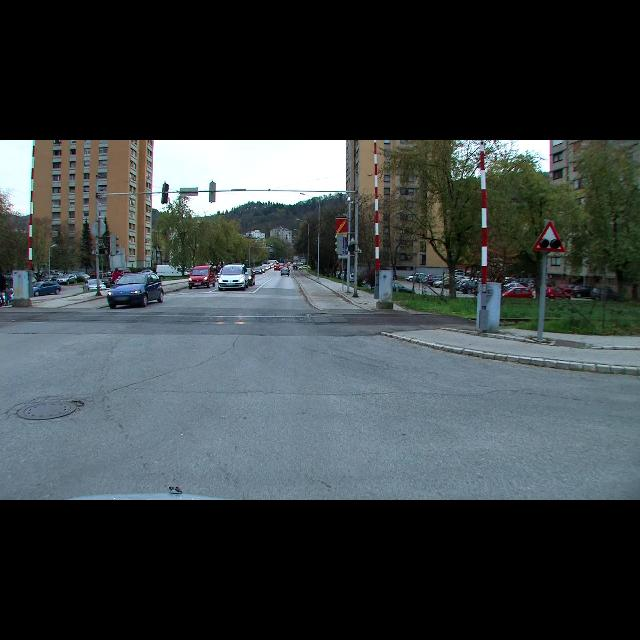Triangle: (534, 220, 566, 254)
